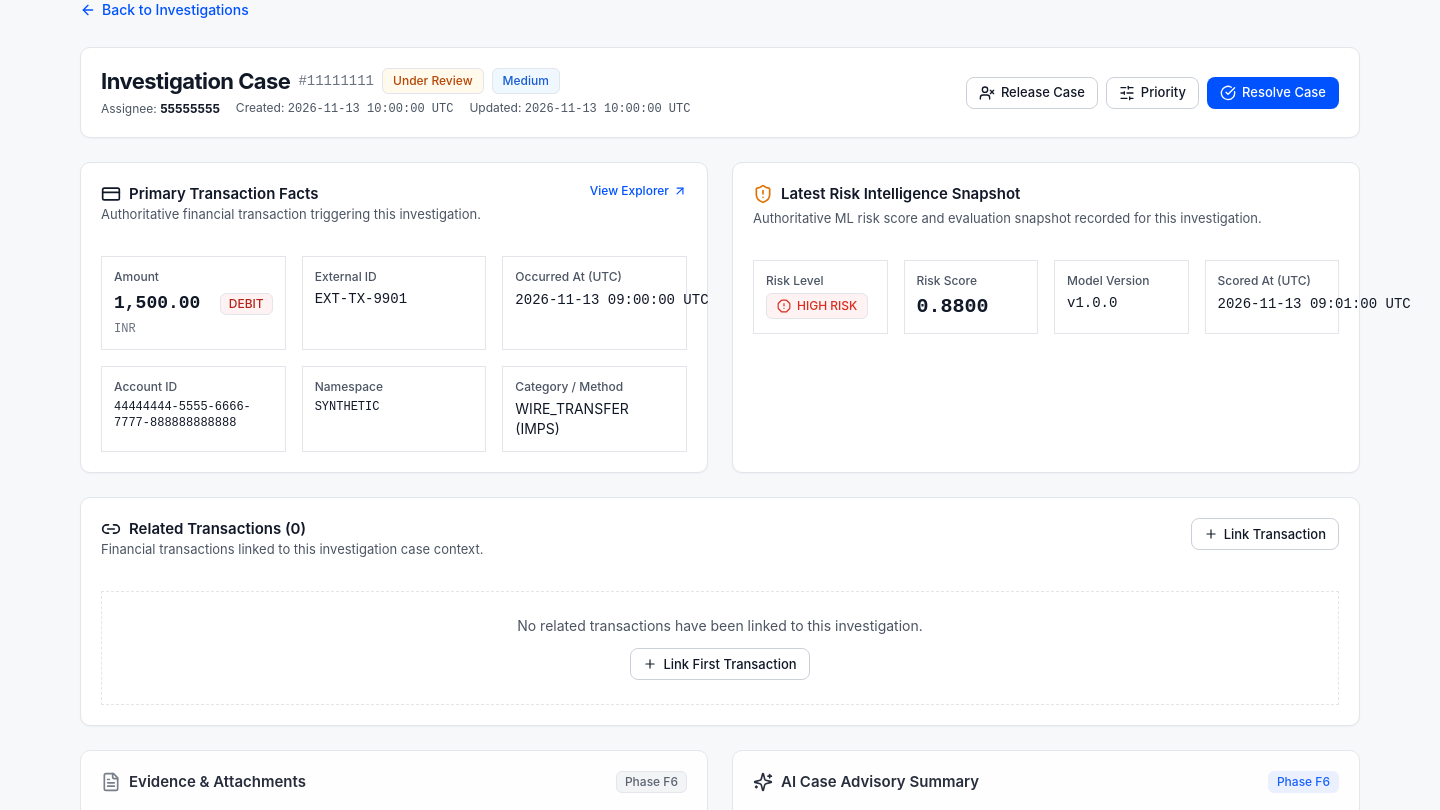
Scenario: InvestigationWorkspacePage component (F5.5–F5.6) › allows linking a related transaction via modal dialog
The image size is (1440, 810).
Later steps or results of the test are not shown.
What coordinates should you click on to do the following:
click the button with test id "open-link-transaction-button"
I would click on:
 (1265, 534)
Its box is [1191,518,1339,550].
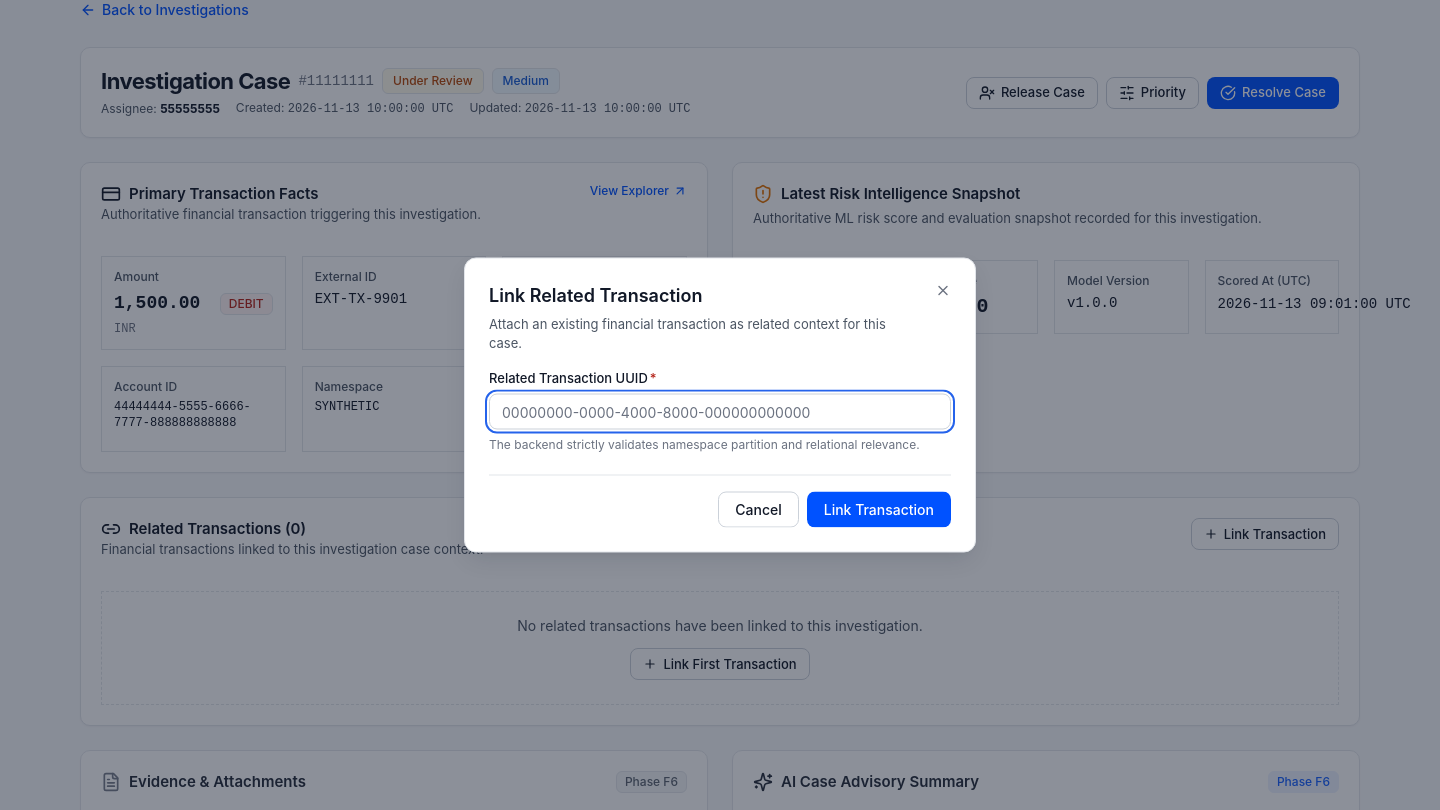
Expected: the dialog is shown, [464,258,976,552]
Expected: the heading "Link Related Transaction" is shown, [489,284,702,306]
